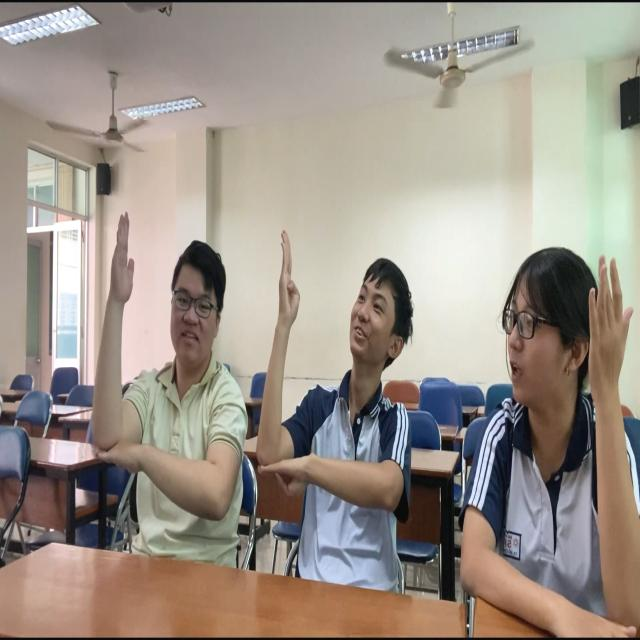raise_hand: (443, 226, 640, 637), (70, 191, 247, 606)
